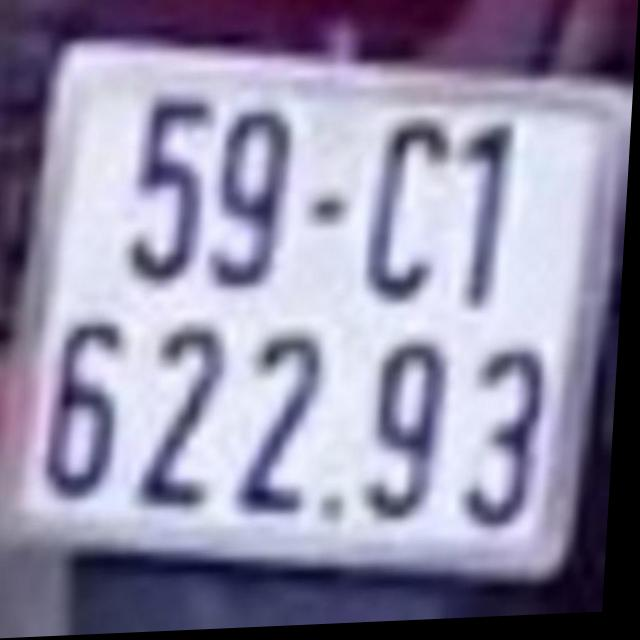1: (455, 117, 508, 316)
2: (147, 324, 224, 513), (255, 325, 321, 519)
3: (475, 354, 548, 543)
5: (135, 95, 212, 281)
6: (58, 321, 123, 499)
9: (370, 338, 446, 523), (222, 113, 288, 292)
C: (370, 123, 450, 314)
